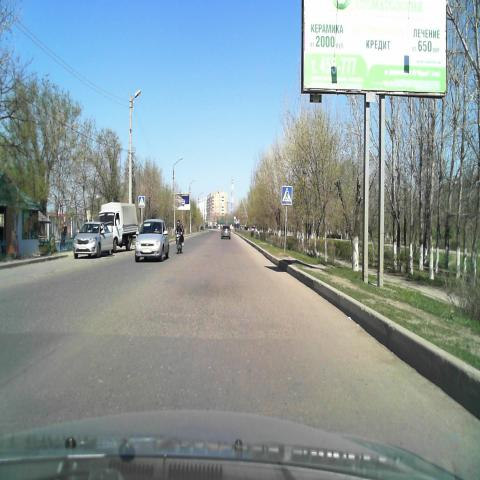5_19_1: (282, 186, 292, 205), (138, 194, 146, 208)
